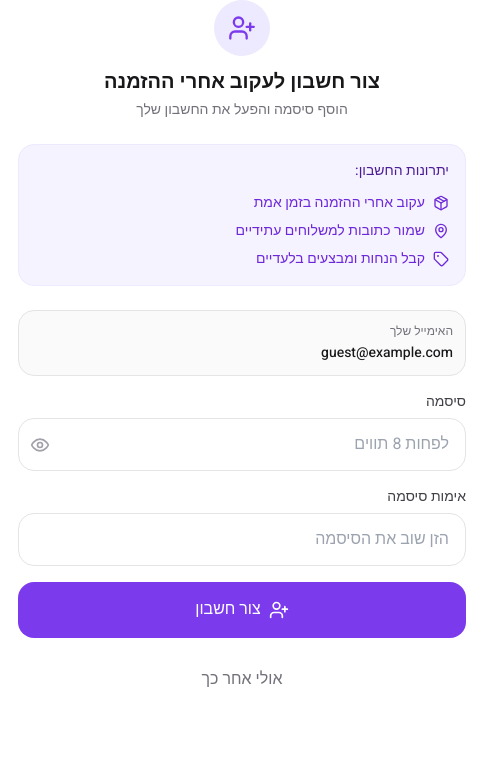
PostPurchaseSignup › Password Validation › should show error when password is too short
This screenshot has width=485, height=766.
Type "12345" into the password field labelled "סיסמה" at (242, 445), box [18,418,466,471]
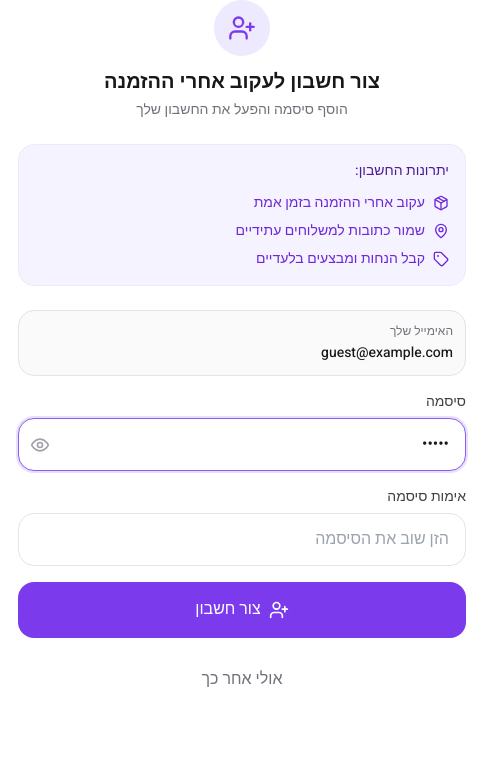
Type "12345" into the password field labelled "אימות סיסמה" at (242, 540), box [18,513,466,566]
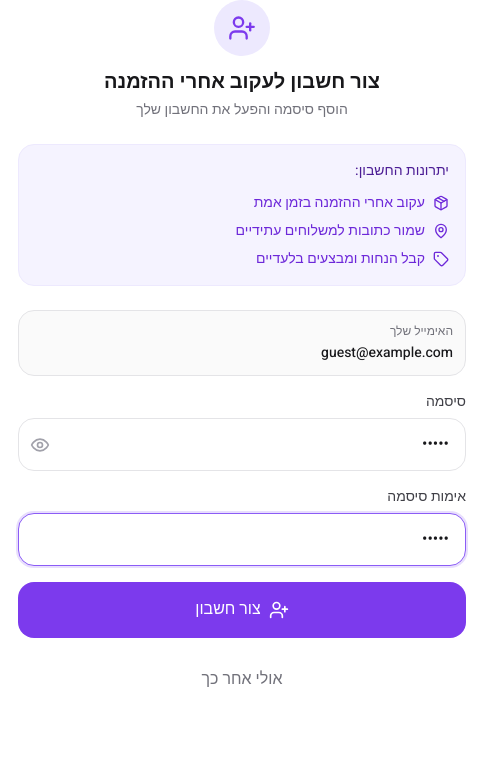
Click the button "צור חשבון" at (242, 610), box [18,582,466,638]
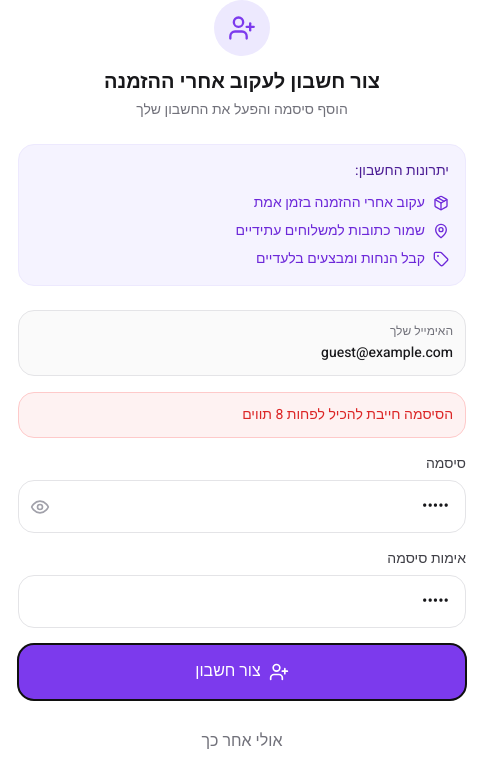
Now the text "הסיסמה חייבת להכיל לפחות 8 תווים" is shown, box [18,392,466,438]
